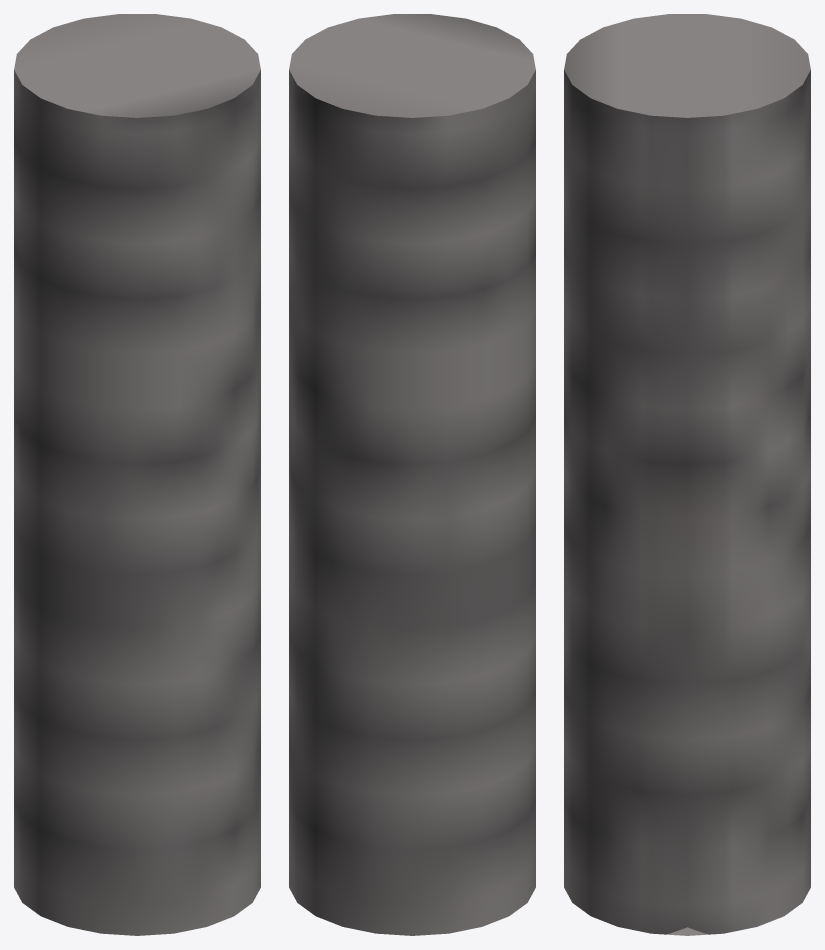
The model's file is WireAttachments.fbx.
3 views of the same model, side by side, from view 1: azimuth 30°, elevation 25°; view 2: azimuth 150°, elevation 25°; view 3: azimuth 270°, elevation 25° (orthographic).
Visible parts, largest first — view 1: WireAttachments; view 2: WireAttachments; view 3: WireAttachments.
Part boxes in pixels (box(x1,y1,x2,y2)): WireAttachments: box(14, 14, 260, 935); WireAttachments: box(289, 14, 535, 935); WireAttachments: box(564, 14, 810, 935).
Size of the model in its own units: 24.36 by 89.33 by 24.43.
1 material, 1 textured.
